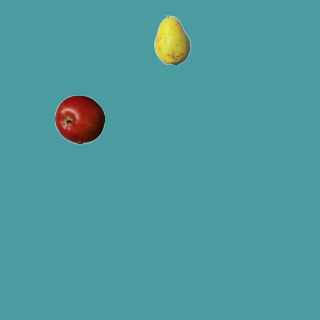Apple Braeburn: (54, 94, 104, 144)
Pear Monster: (147, 14, 197, 64)
